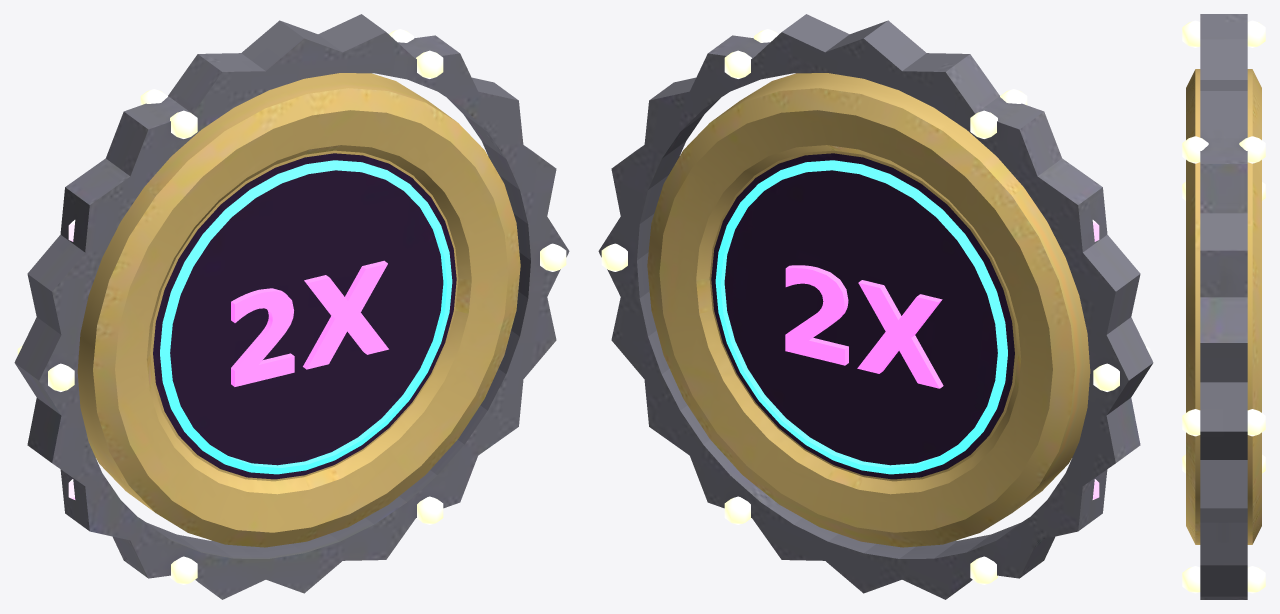
File: doubler.glb
3 renders of one model, left to right at view 1: azimuth 30°, elevation 25°; view 2: azimuth 150°, elevation 25°; view 3: azimuth 270°, elevation 25°, orthographic. The views are drawn at different scales.
Parts seen in each view (by area): view 1: body, gear_ring; view 2: body, gear_ring; view 3: gear_ring, body, Sphere.004, Sphere.005, Sphere, Sphere.001, Sphere.008, Sphere.009, Sphere.020, Sphere.021.
Part boxes in pixels (x1,y1,x2,y2): body: (77, 73, 520, 547); gear_ring: (14, 14, 569, 599); body: (647, 73, 1090, 547); gear_ring: (598, 14, 1153, 599); gear_ring: (1200, 14, 1247, 599); body: (1186, 69, 1261, 544); Sphere.004: (1182, 136, 1208, 163); Sphere.005: (1239, 136, 1265, 163); Sphere: (1182, 409, 1200, 436); Sphere.001: (1247, 409, 1265, 436); Sphere.008: (1182, 20, 1200, 47); Sphere.009: (1247, 20, 1265, 47); Sphere.020: (1182, 566, 1200, 593); Sphere.021: (1247, 566, 1265, 593).
Size of the model in its own units: 1.09 by 1.09 by 0.1544.
Materials: 5 (1 with a texture image).
